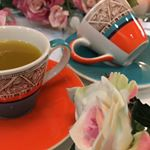cups: (1, 25, 73, 122), (68, 1, 150, 69)
